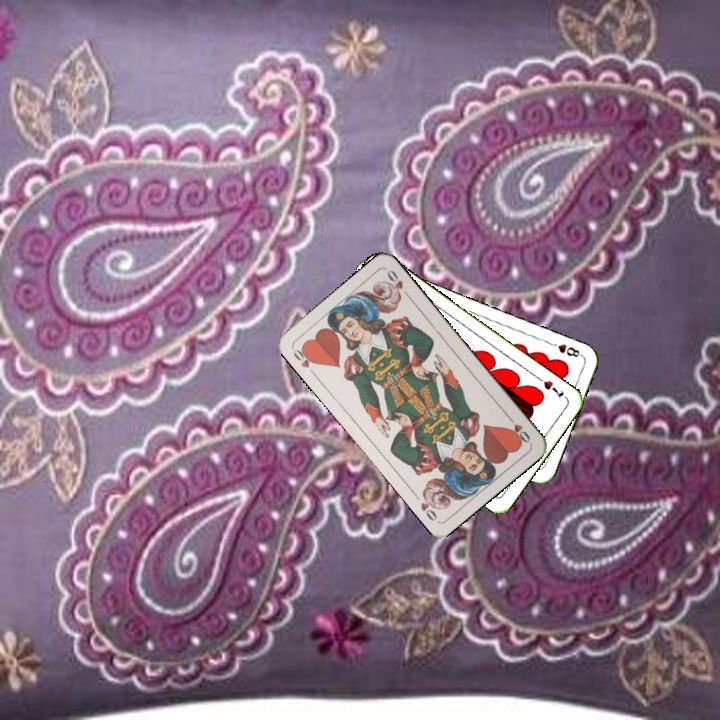H7: (533, 373, 567, 401)
H8: (545, 338, 585, 360)
HO: (288, 343, 319, 379), (503, 411, 533, 446)
